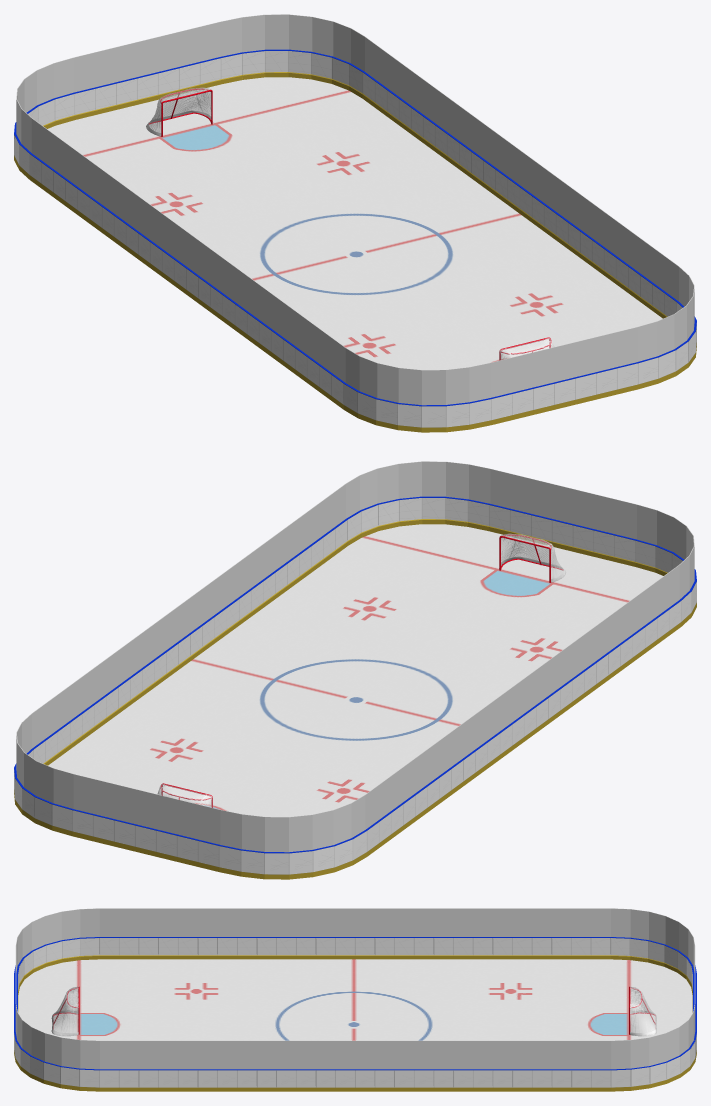
Rendered from HockeyComp.glb.
3 renders of one model, top to bottom at view 1: azimuth 30°, elevation 25°; view 2: azimuth 150°, elevation 25°; view 3: azimuth 270°, elevation 25°, orthographic. The views are drawn at different scales.
Visible parts, largest first — view 1: Ice, Boards, GoalNet; view 2: Ice, Boards, GoalNet; view 3: Boards, Ice, GoalNet.
Part boxes in pixels (x1,y1,x2,y2): Ice: (47,77,662,369); Boards: (14,14,696,432); GoalNet: (146,87,554,360); Ice: (48,524,663,816); Boards: (14,461,696,879); GoalNet: (157,533,566,807); Boards: (14,908,696,1091); Ice: (18,959,692,1040); GoalNet: (51,986,656,1036).
Bounding box in the file's own units: 12.16 × 2.15 × 26.16.
7 materials, 3 textured.
